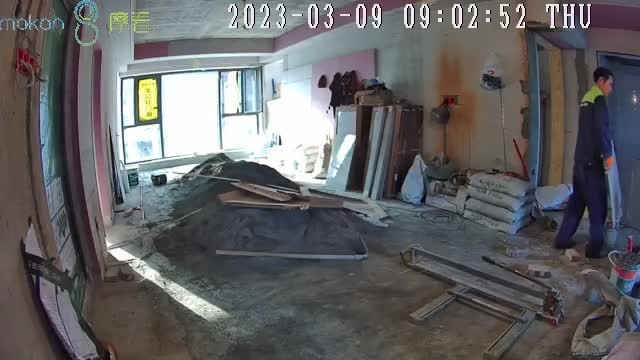people: (556, 68, 614, 259)
window: (122, 70, 263, 160)
